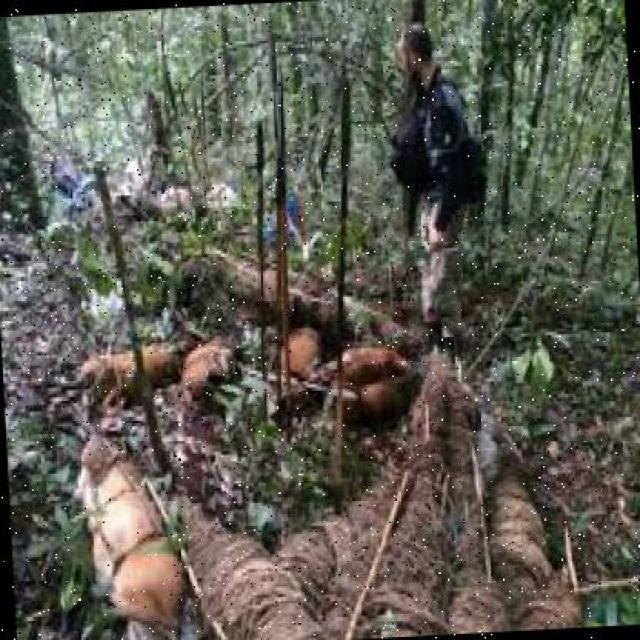p_export: (15, 15, 592, 597)
poacher: (388, 26, 470, 291)
